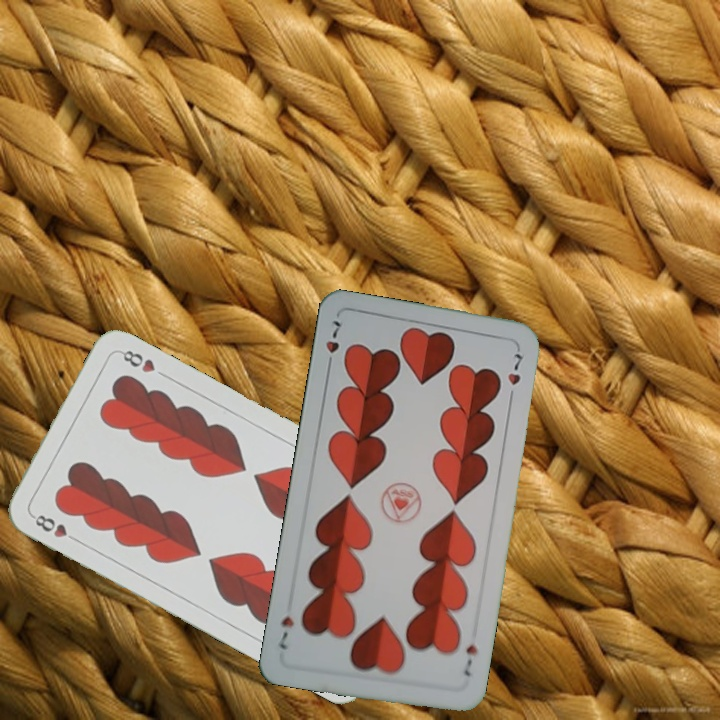H7: (321, 317, 343, 373), (459, 641, 480, 679)
H8: (28, 510, 82, 545)
